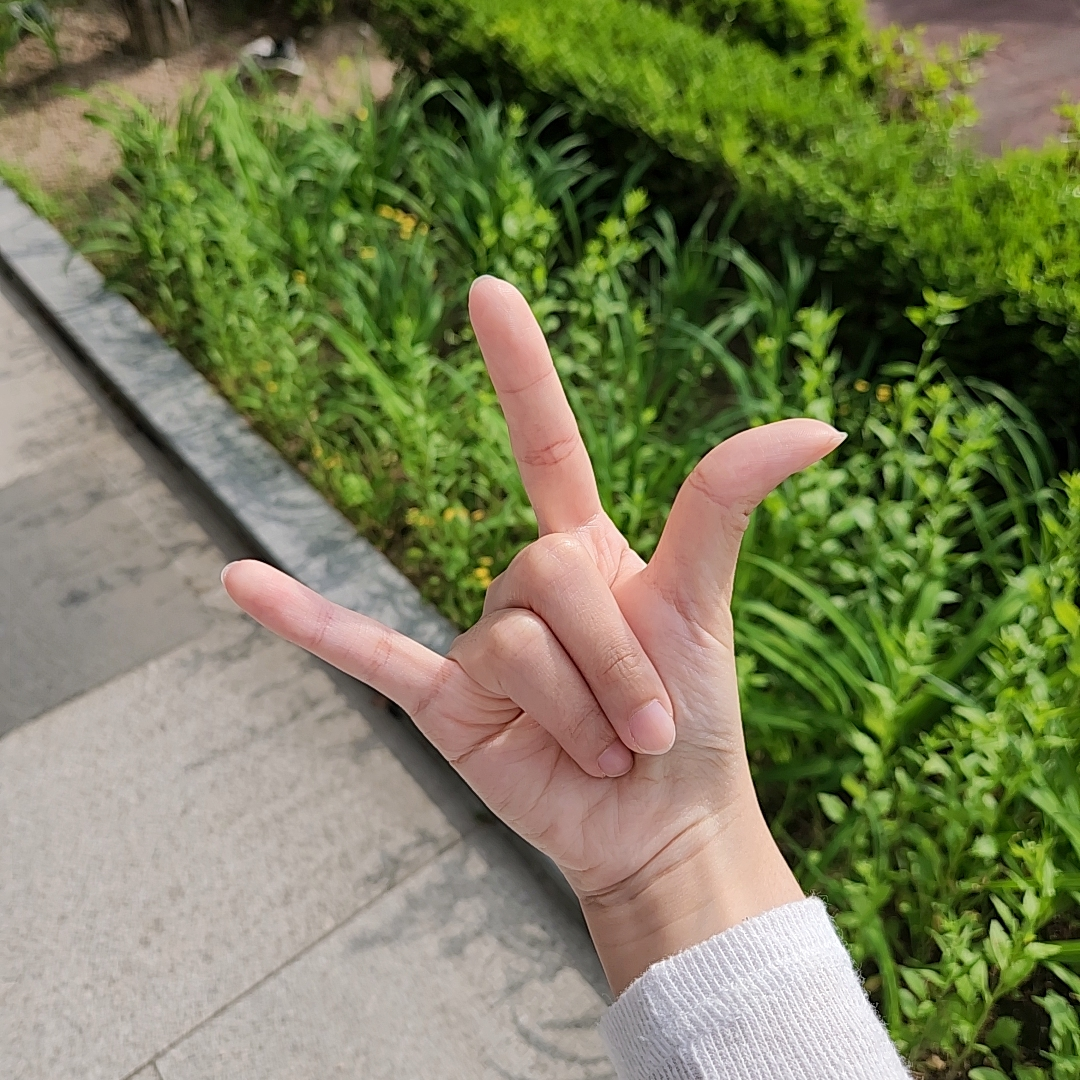iloveyou: (221, 275, 851, 854)
